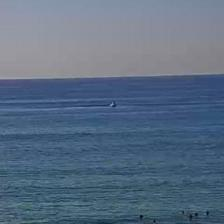surfer: (188, 213, 194, 219), (181, 209, 186, 215), (152, 218, 157, 224), (139, 214, 144, 220), (206, 210, 210, 216), (195, 212, 198, 217)
